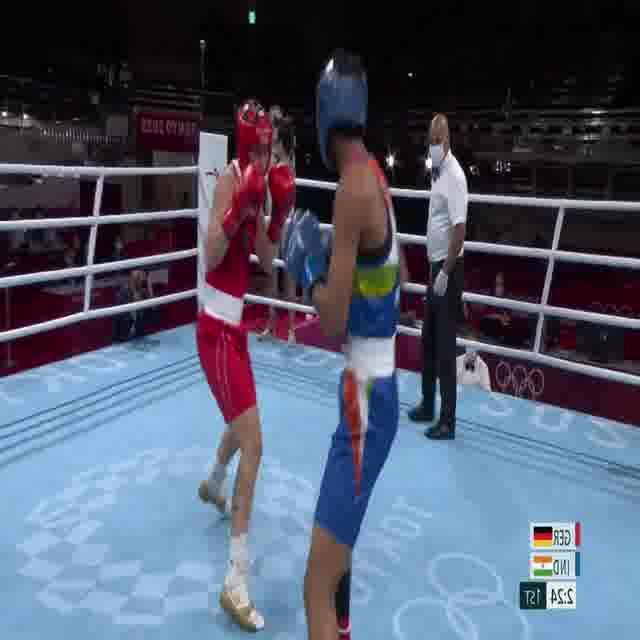blue-player: (278, 41, 407, 640)
red-player: (192, 93, 300, 640)
referee: (407, 106, 471, 441)
